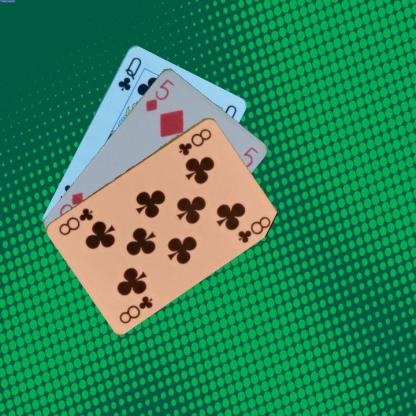5d: (143, 76, 176, 113)
8c: (116, 292, 154, 325), (175, 126, 213, 156)
Qc: (115, 54, 143, 92)
